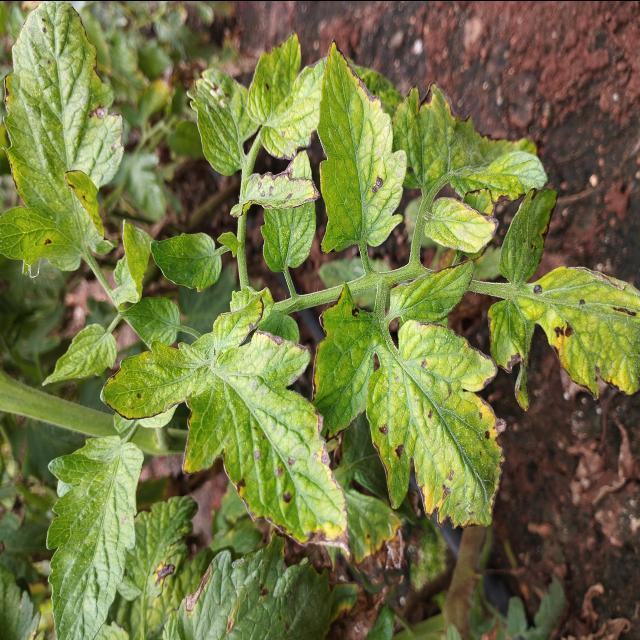Tomato mosaic virus leaf: (180, 325, 353, 567), (2, 0, 128, 276), (364, 314, 510, 536), (485, 262, 640, 416), (320, 30, 408, 252), (310, 290, 384, 443), (116, 490, 200, 604), (229, 168, 322, 224), (422, 193, 502, 254)
